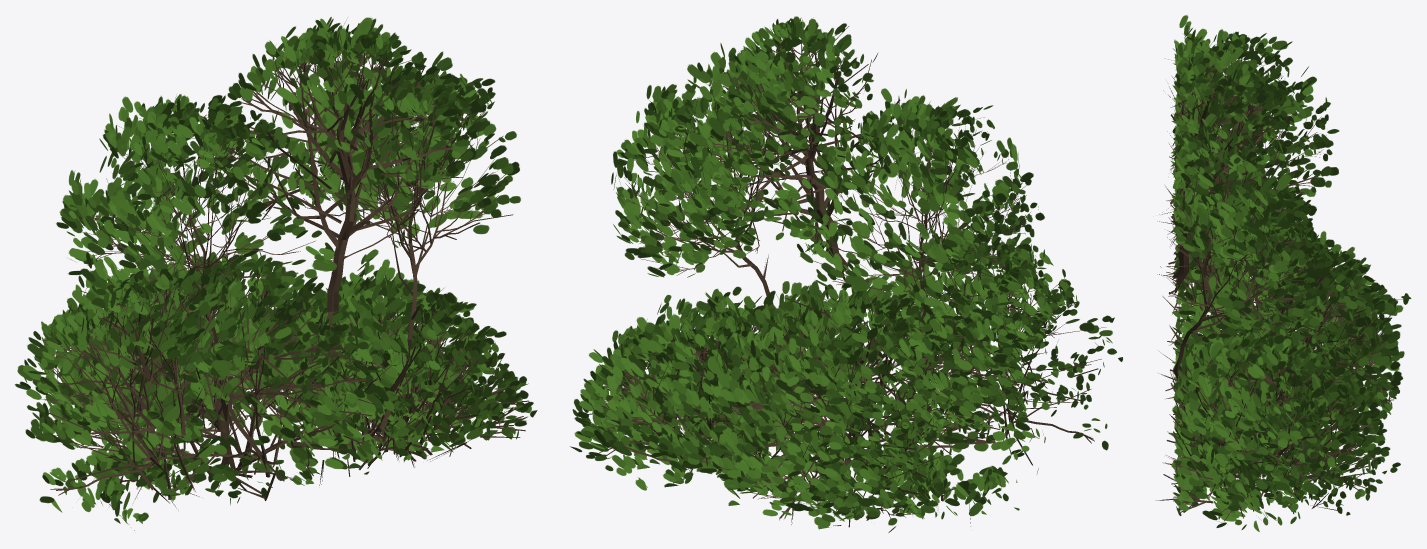
3 views of the same model, side by side, from view 1: azimuth 30°, elevation 25°; view 2: azimuth 150°, elevation 25°; view 3: azimuth 270°, elevation 25° (orthographic). The views are drawn at different scales.
Visible parts, largest first — view 1: oak 01.001_trunk_Mat.001_0.458; view 2: oak 01.001_trunk_Mat.001_0.458; view 3: oak 01.001_trunk_Mat.001_0.458.
Part boxes in pixels (x1=…): oak 01.001_trunk_Mat.001_0.458: x1=15, y1=17, x2=537, y2=530; oak 01.001_trunk_Mat.001_0.458: x1=570, y1=16, x2=1122, y2=532; oak 01.001_trunk_Mat.001_0.458: x1=1155, y1=15, x2=1411, y2=531.
Size of the model in its own units: 4.63 by 3.86 by 2.19.
Materials: 2 (1 with a texture image).
